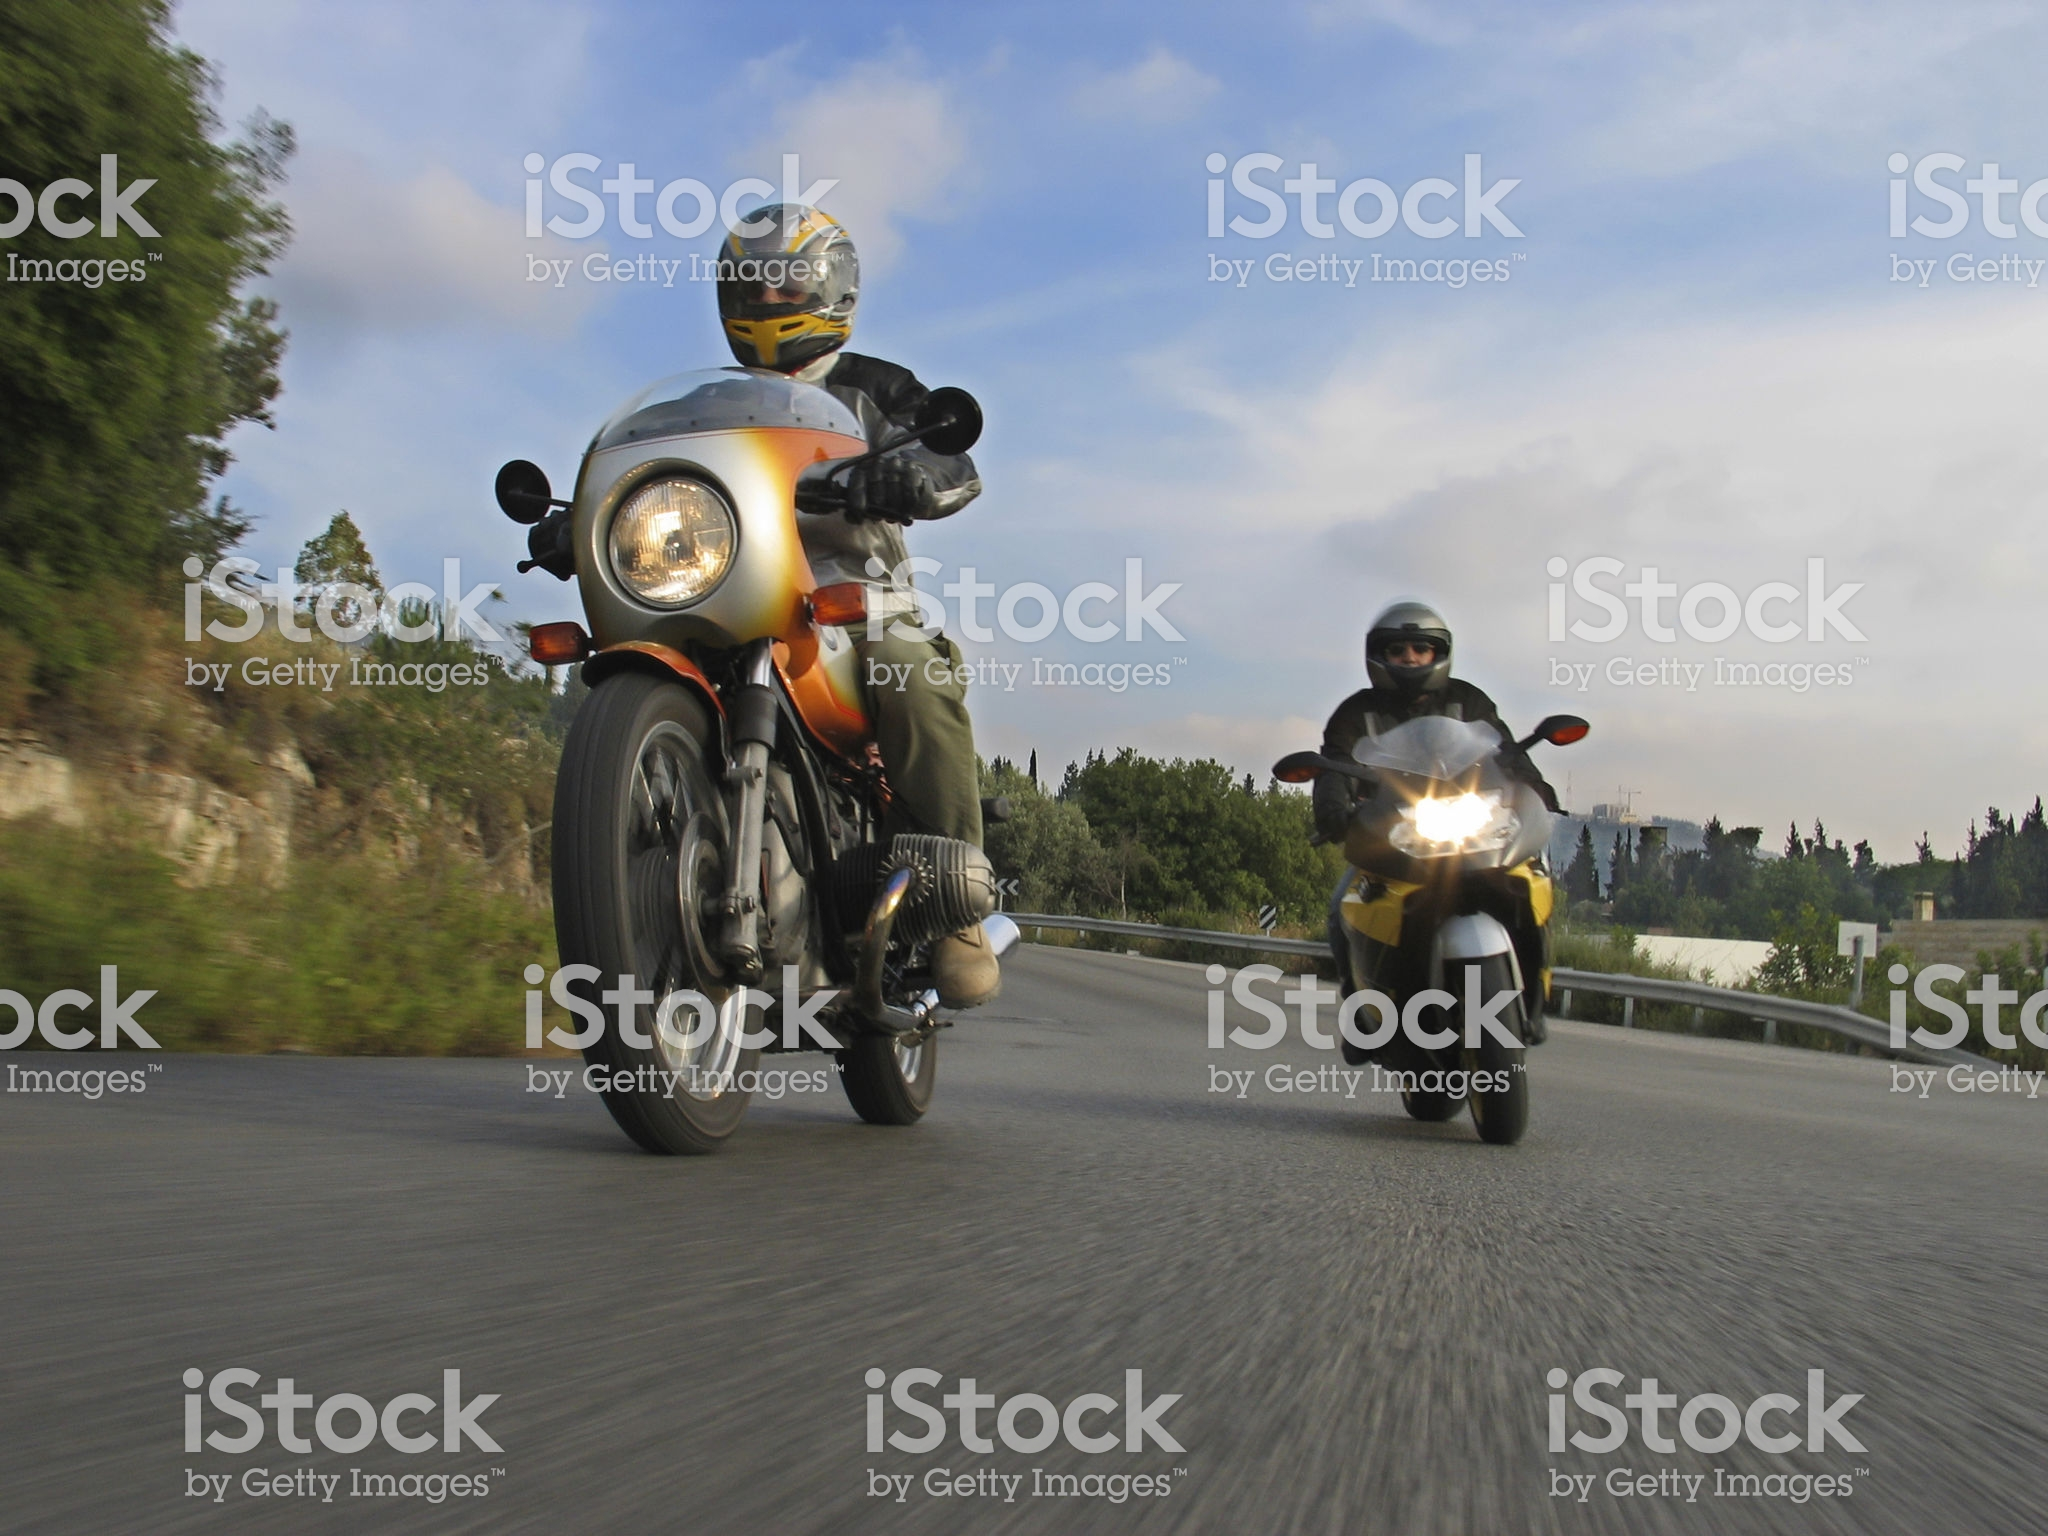helmet: (726, 186, 842, 374), (1340, 599, 1464, 691)
